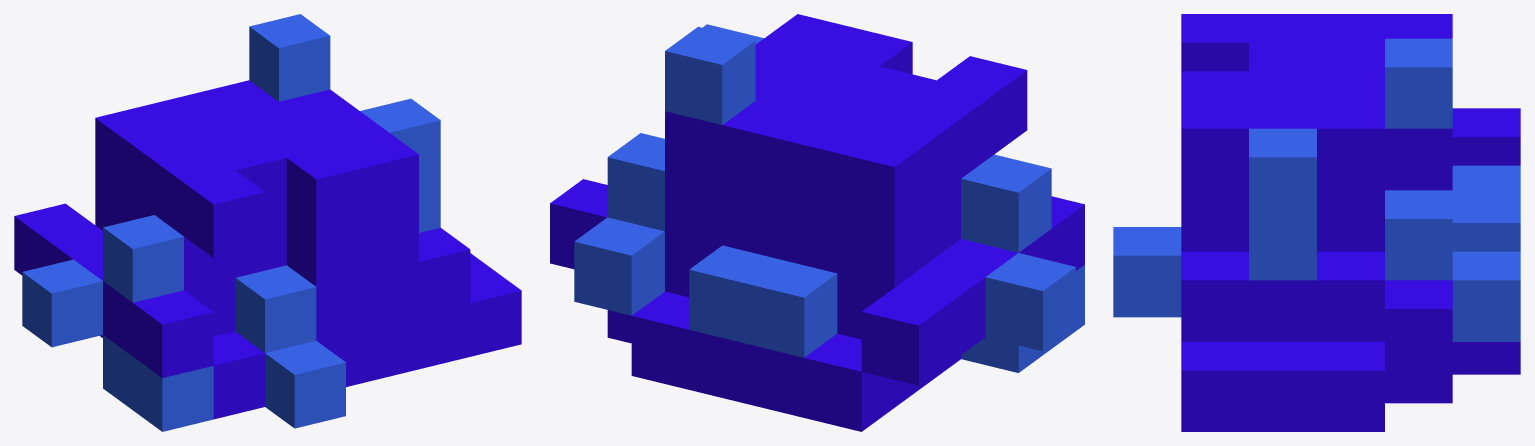
The model's file is WaterAttack.obj.
3 renders of one model, left to right at view 1: azimuth 30°, elevation 25°; view 2: azimuth 150°, elevation 25°; view 3: azimuth 270°, elevation 25°, orthographic. The views are drawn at different scales.
Bounding box in the file's own units: 0.8 × 0.5 × 0.6.
1 material, 1 textured.
